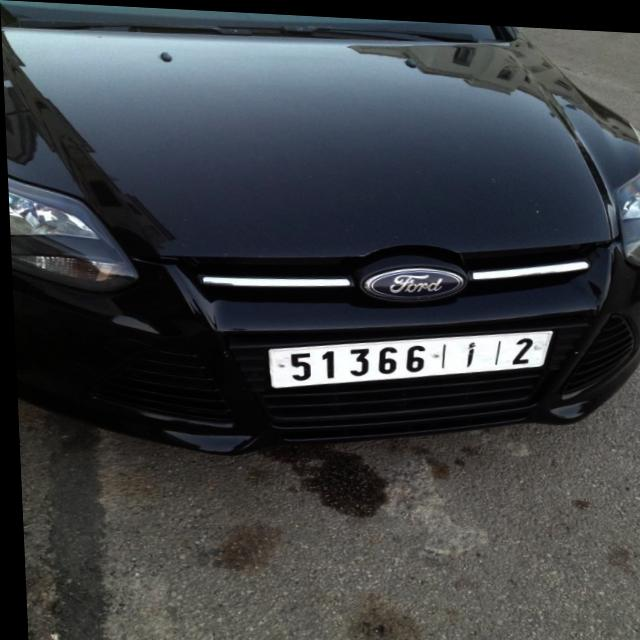License-Plate: (265, 325, 551, 385)
